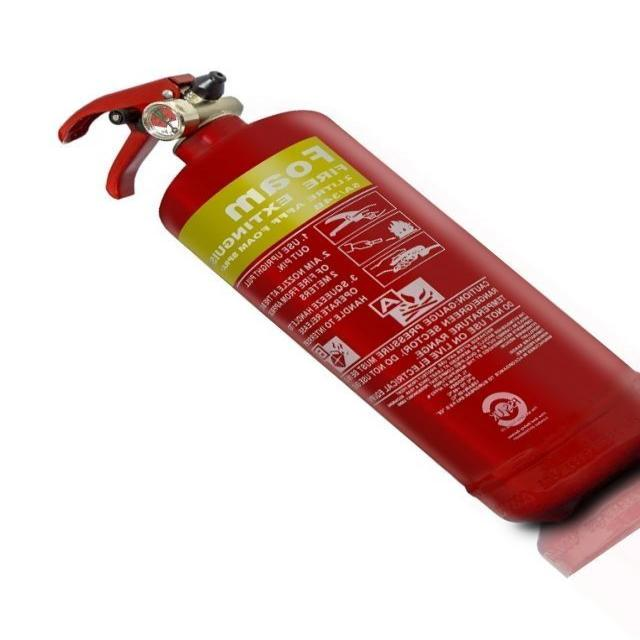fire_extinguisher: (51, 65, 639, 531)
